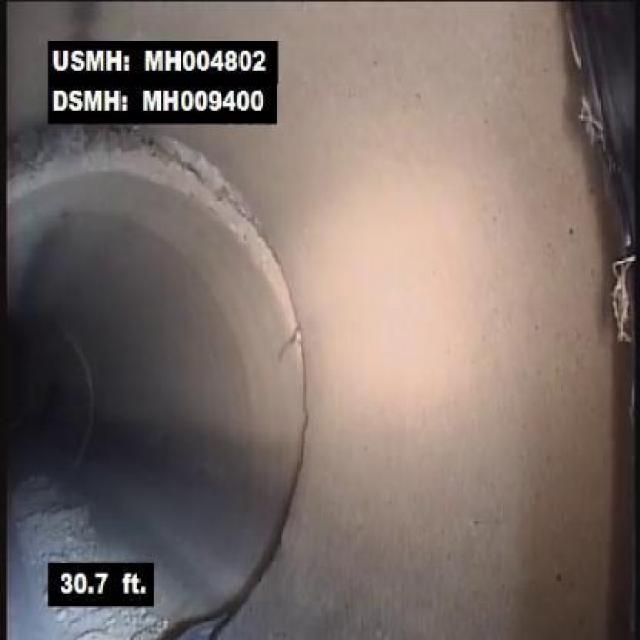Joint offset: (12, 126, 242, 203), (219, 208, 306, 338)
